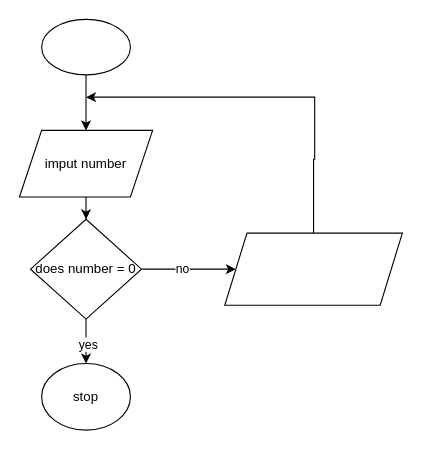
Some shapes in this 422 by 450 pixel diagram are drawn without their labels. Each missing label, with the box of its shape:
print "the number you pressed was " + number: (224, 232, 402, 305)
start: (41, 18, 130, 75)
